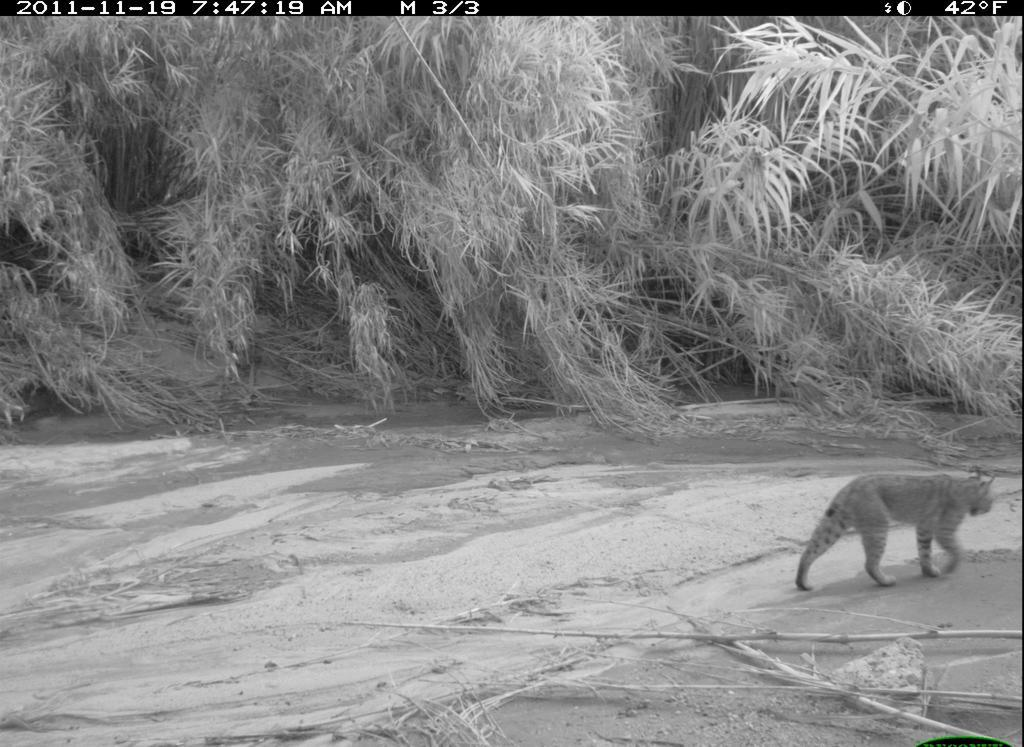bobcat: (788, 455, 998, 592)
